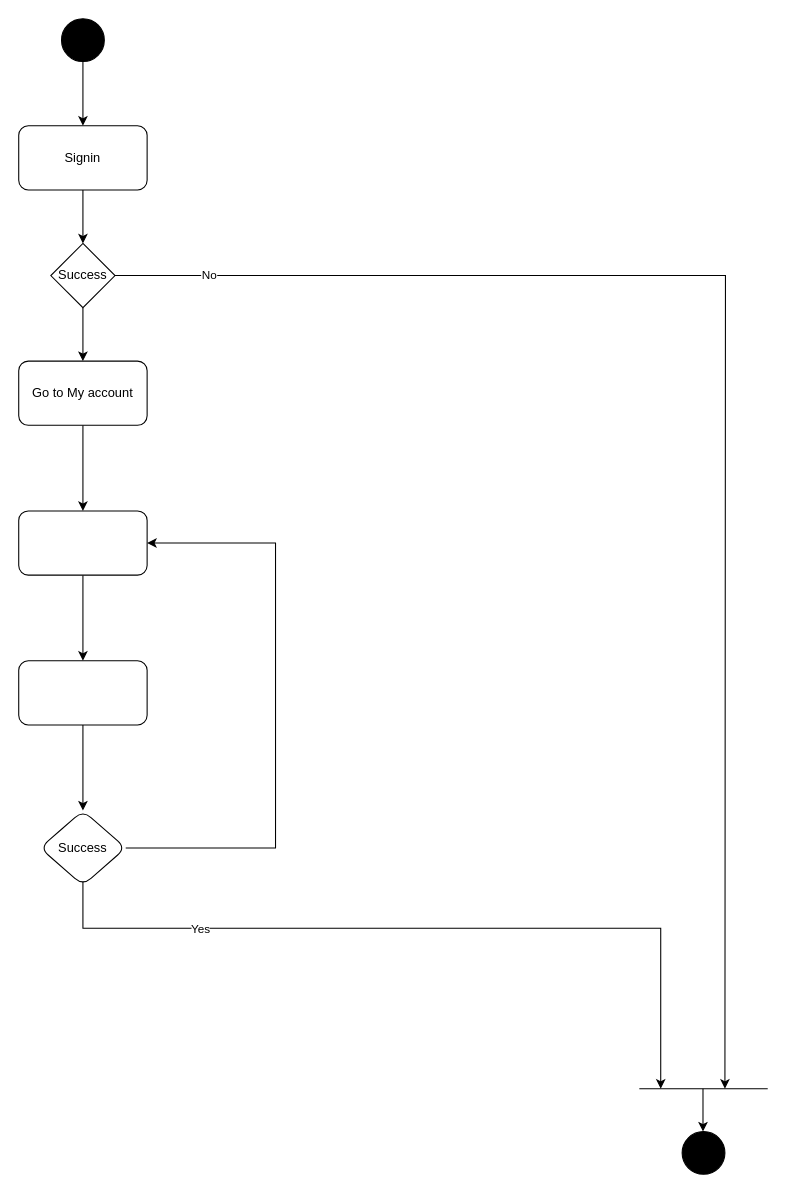
This 788x1193 diagram has some shape labels left out. The shapes that lost their labels are listed below. From the top down, each one's centre as x and y in pixels, then its label:
At pixel 82 542: "Select the change address hyperlink".
At pixel 82 692: "Add your new address".
